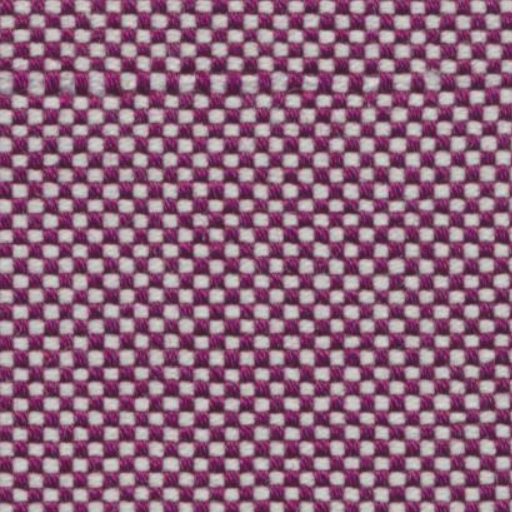DaiSha: (4, 62, 490, 107)
